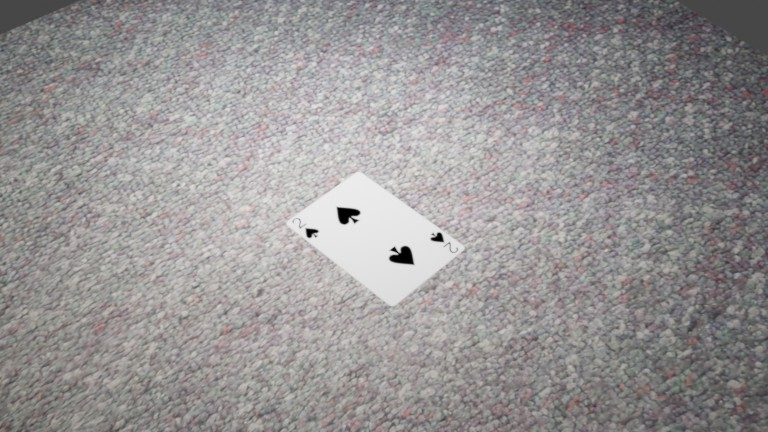2_of_spades: (424, 228, 463, 257), (287, 214, 325, 243)
